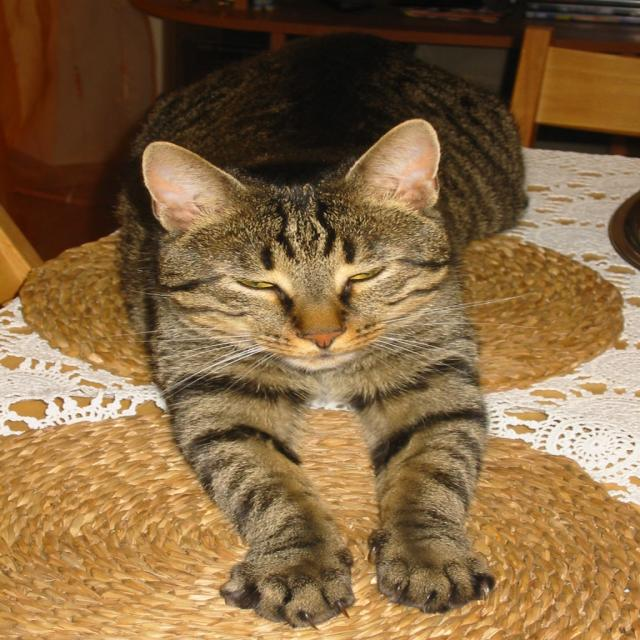Cat: (118, 30, 528, 634)
